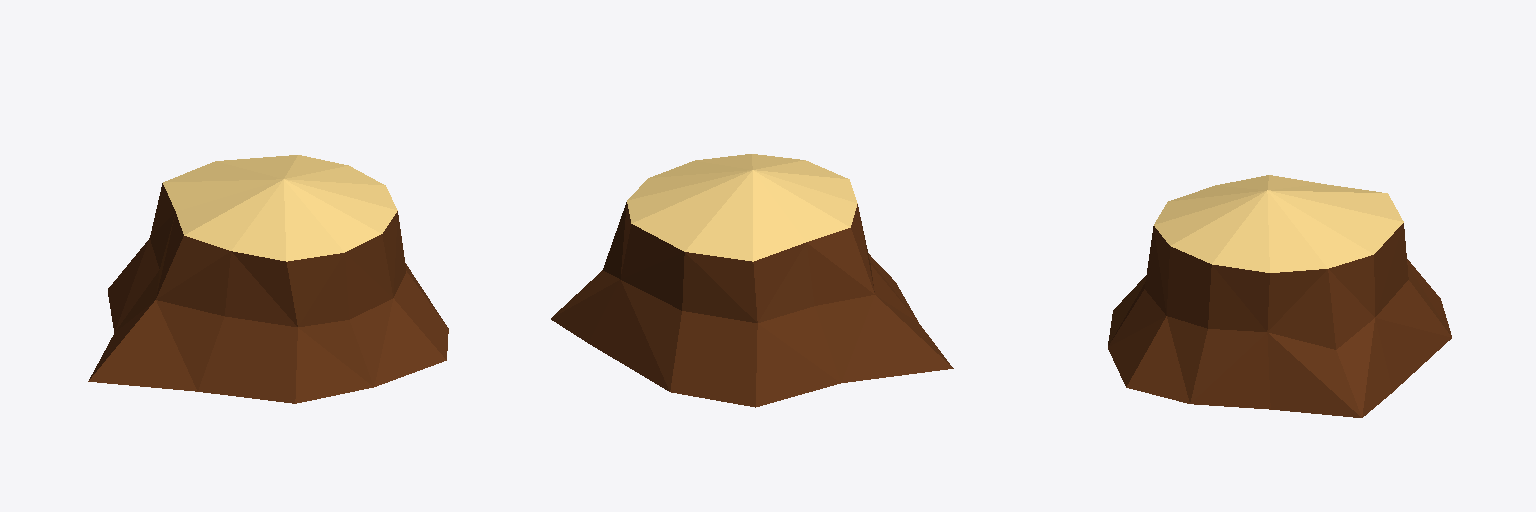
File: TreeStump03.obj
The picture shows the model from 3 angles: view 1: azimuth 30°, elevation 25°; view 2: azimuth 150°, elevation 25°; view 3: azimuth 270°, elevation 25°; orthographic projection.
Visible parts, largest first — view 1: Mesh; view 2: Mesh; view 3: Mesh.
Part boxes in pixels (x1,y1,x2,y2): Mesh: (88,155,448,403); Mesh: (551,154,953,407); Mesh: (1108,175,1451,417).
Bounding box in the file's own units: 2.12 × 0.87 × 1.79.